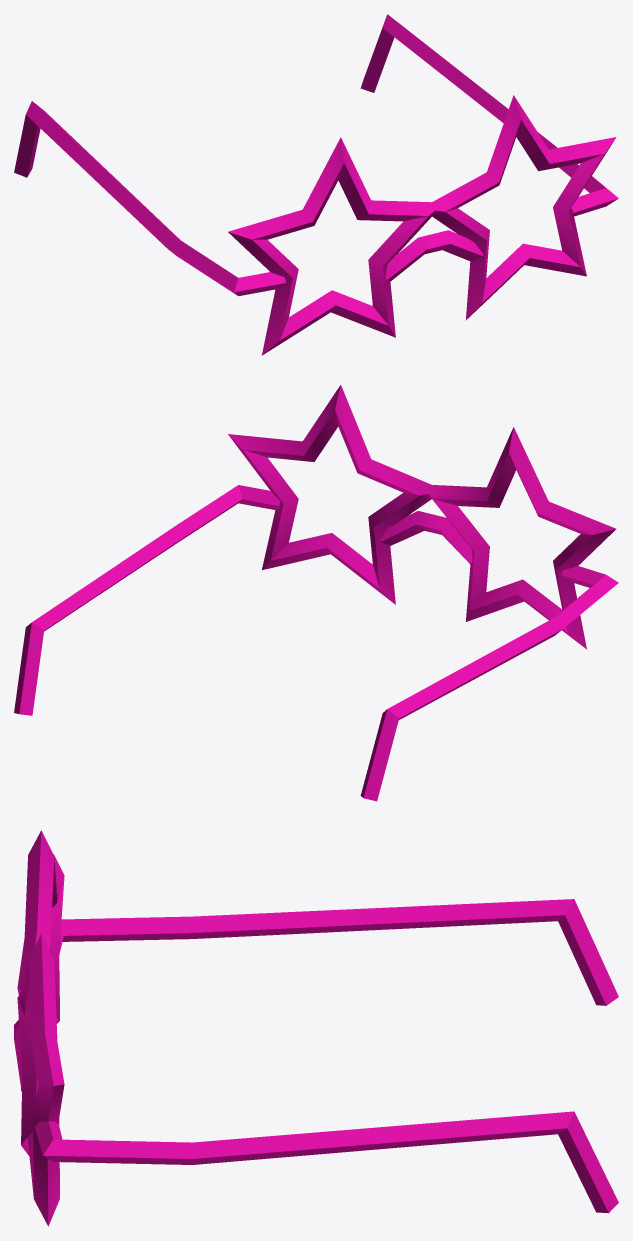
File: kacamata_centil.FBX
The picture shows the model from 3 angles, top to bottom: view 1: azimuth 30°, elevation 25°; view 2: azimuth 150°, elevation 25°; view 3: azimuth 270°, elevation 25°; orthographic projection. The views are drawn at different scales.
Visible parts, largest first — view 1: kacamata_bintang; view 2: kacamata_bintang; view 3: kacamata_bintang.
Part boxes in pixels (left/top/right/bottom): kacamata_bintang: left=14, top=14, right=618, bottom=355; kacamata_bintang: left=14, top=385, right=618, bottom=801; kacamata_bintang: left=14, top=830, right=618, bottom=1226.
Bounding box in the file's own units: 6.1 × 3.1 × 6.59.
